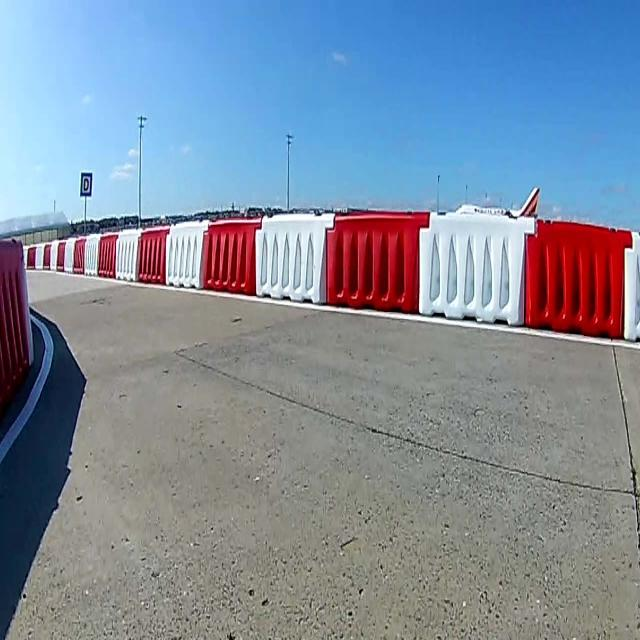durak: (80, 172, 92, 198)
